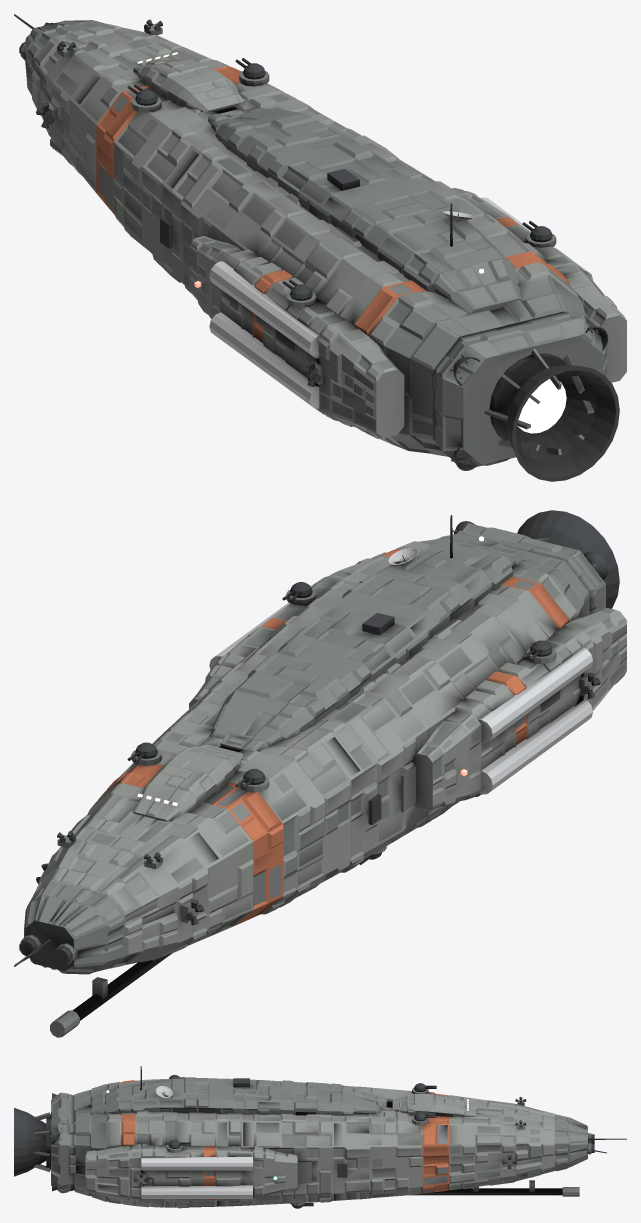
File: corvette.glb
3 views of the same model, one above another, from view 1: azimuth 30°, elevation 25°; view 2: azimuth 150°, elevation 25°; view 3: azimuth 270°, elevation 25° (orthographic). The views are drawn at different scales.
Parts seen in each view (by area): view 1: body; view 2: body; view 3: body.
Part boxes in pixels (bbox=[...]): body: bbox=[14, 14, 626, 481]; body: bbox=[14, 510, 626, 1037]; body: bbox=[14, 1066, 626, 1208].
Size of the model in its own units: 0.3303 by 0.2589 by 1.1.
